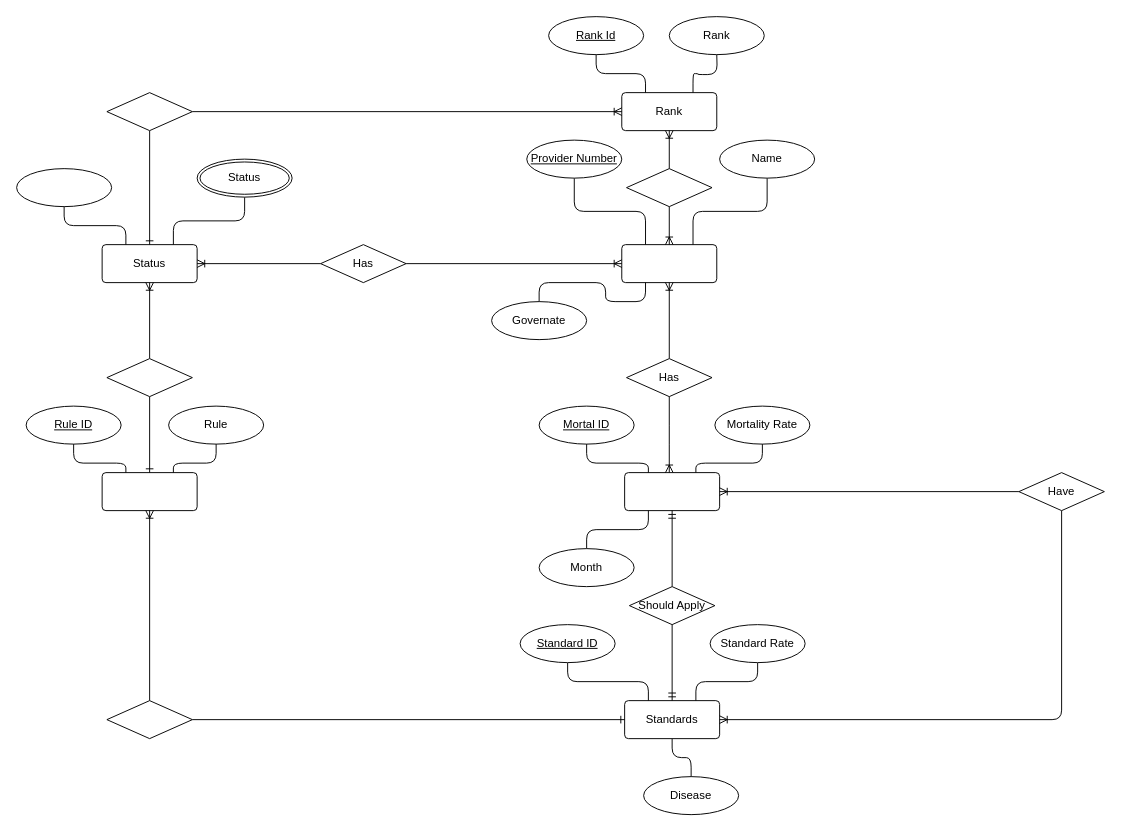
Some shapes in this 1121 by 831 pixel diagram are drawn without their labels. Here are the shapes that lost their labels. From the top down, the box of each, then its label:
(106, 92, 192, 131): Controls
(16, 168, 112, 207): Status ID
(626, 168, 712, 207): Ranks In
(621, 244, 717, 283): Hospital
(106, 358, 192, 397): Apply
(101, 472, 197, 511): Rules
(624, 472, 720, 511): Mortality Rates
(106, 700, 192, 739): Depend on
